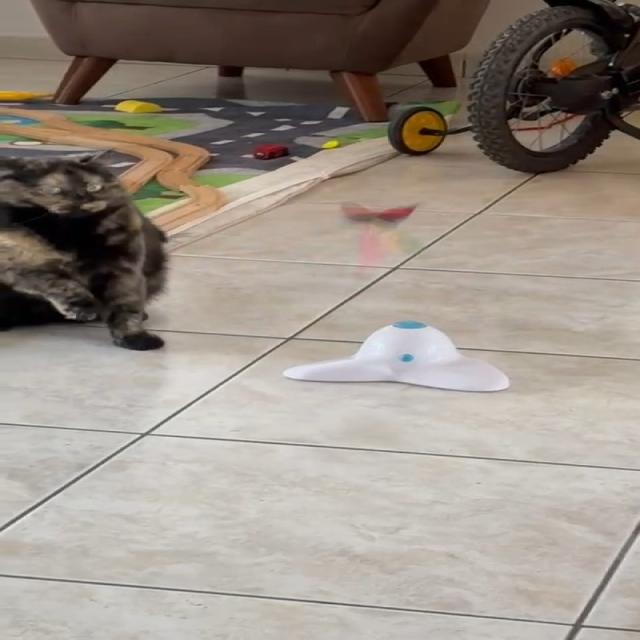authorized: (0, 149, 171, 351)
